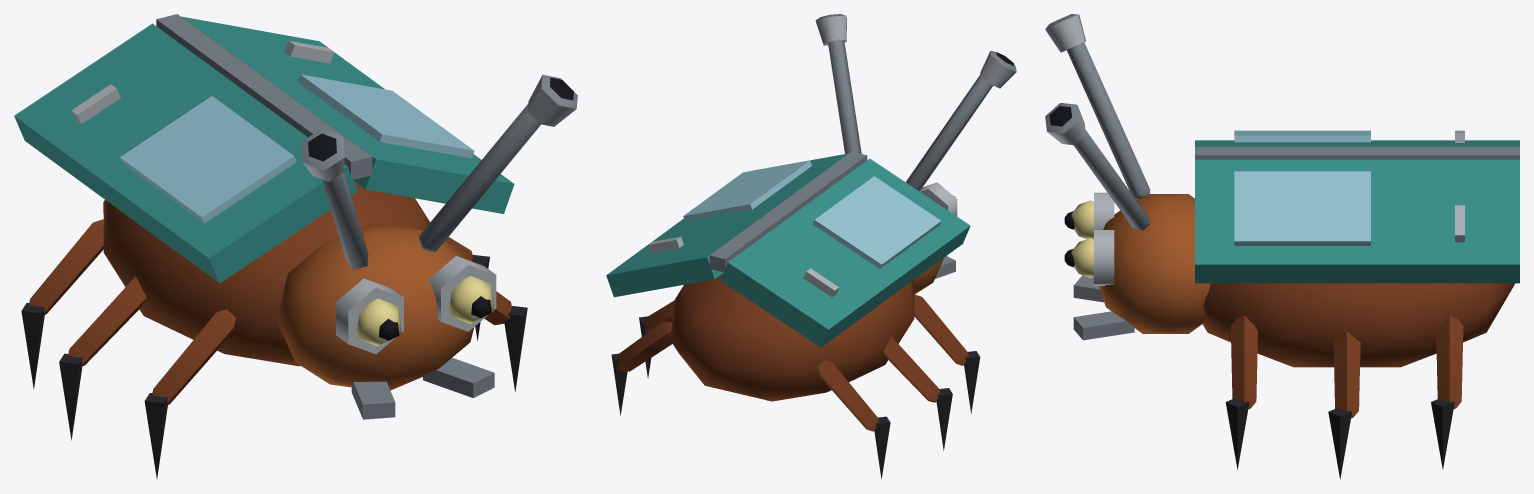
File: e_wueste_schrottkaefer.glb
3 views of the same model, side by side, from view 1: azimuth 30°, elevation 25°; view 2: azimuth 150°, elevation 25°; view 3: azimuth 270°, elevation 25° (orthographic). The views are drawn at different scales.
Parts seen in each view (by area): view 1: body; view 2: body; view 3: body.
Boxes of the visible parts, left/top/right/bottom form: body: left=14, top=14, right=577, bottom=478; body: left=606, top=14, right=1016, bottom=479; body: left=1045, top=14, right=1519, bottom=479.
Bounding box in the file's own units: 1.21 × 1.09 × 1.39.
